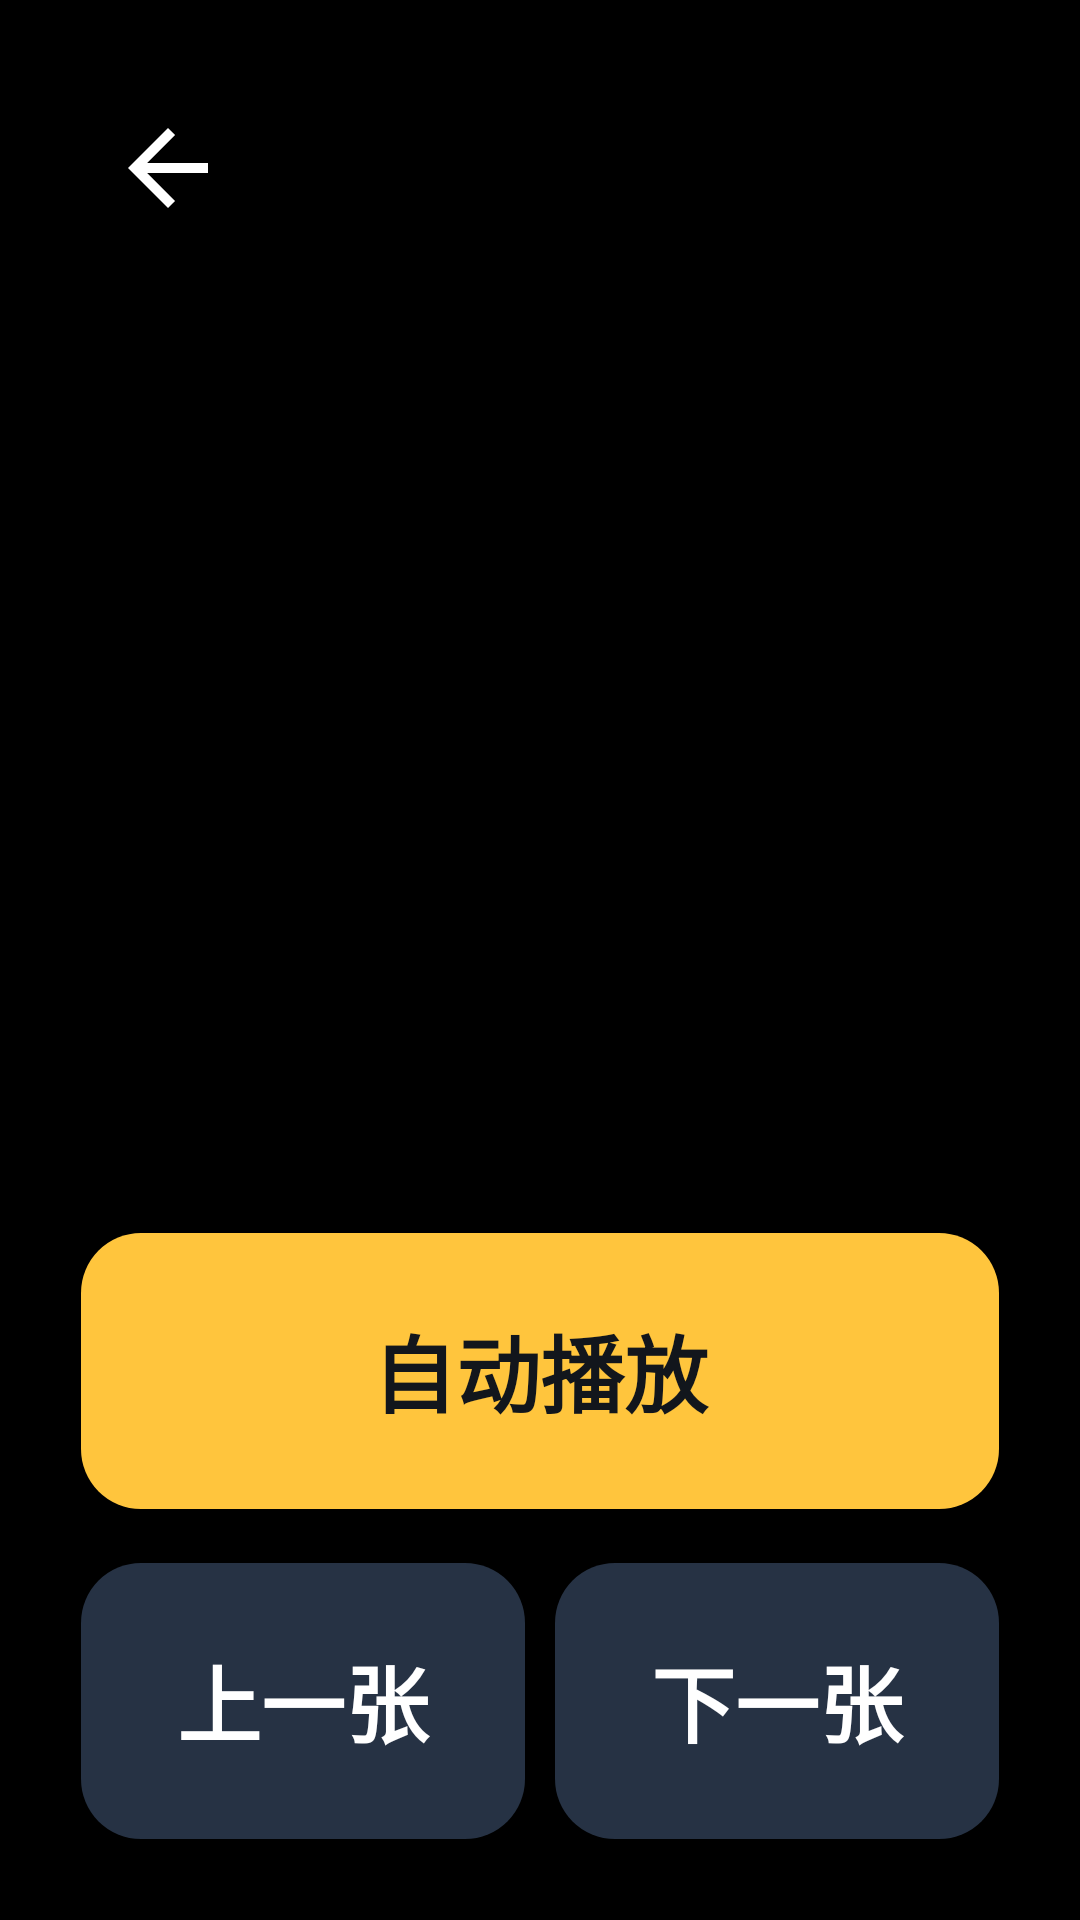

Icon click points for this 1080×1920 phone screenshot, format [x,y]:
返回: [168,168]
